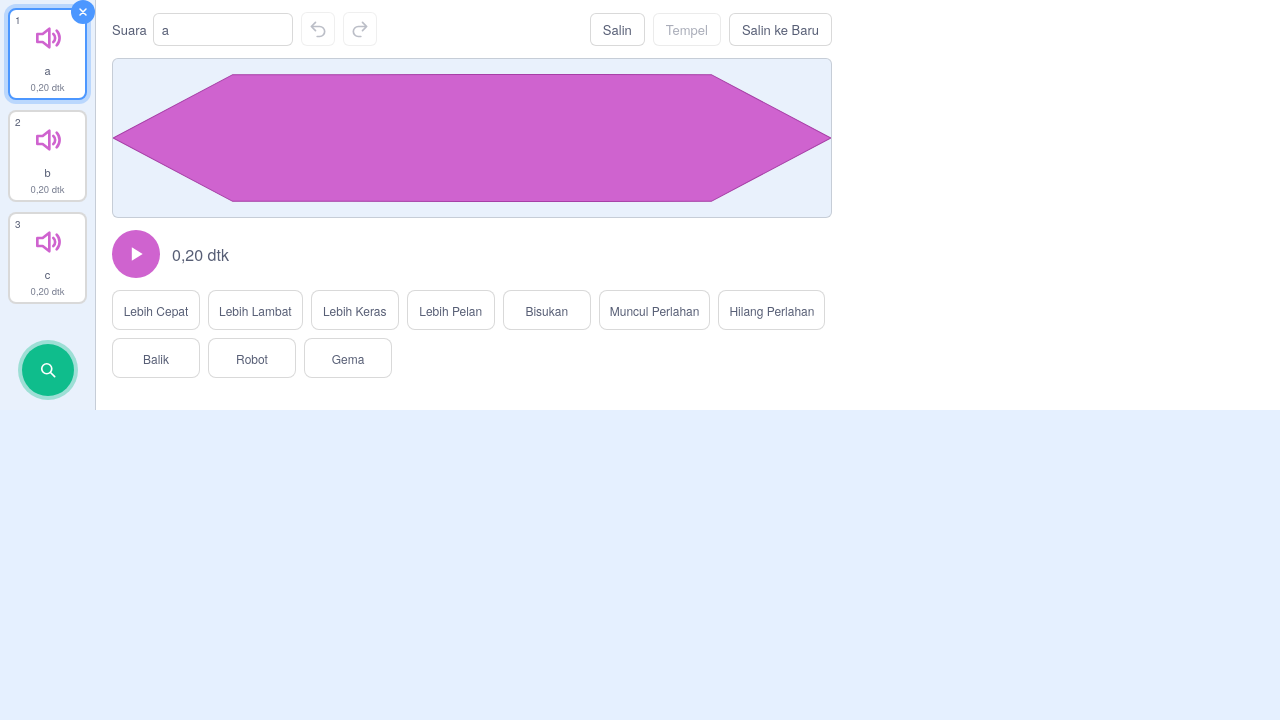
Test: SoundTab › daftar suara, durasi, dan aturan seleksi saat hapus
The image size is (1280, 720).
Expected: the 1st text with class "kb-assetlist__detail" reads "0,20 dtk", 31,80 -> 64,94
Click the option with class "kb-assetlist__tile" showing "3 c 0,20 dtk". click: [48, 258]
box: 8,212 -> 87,304
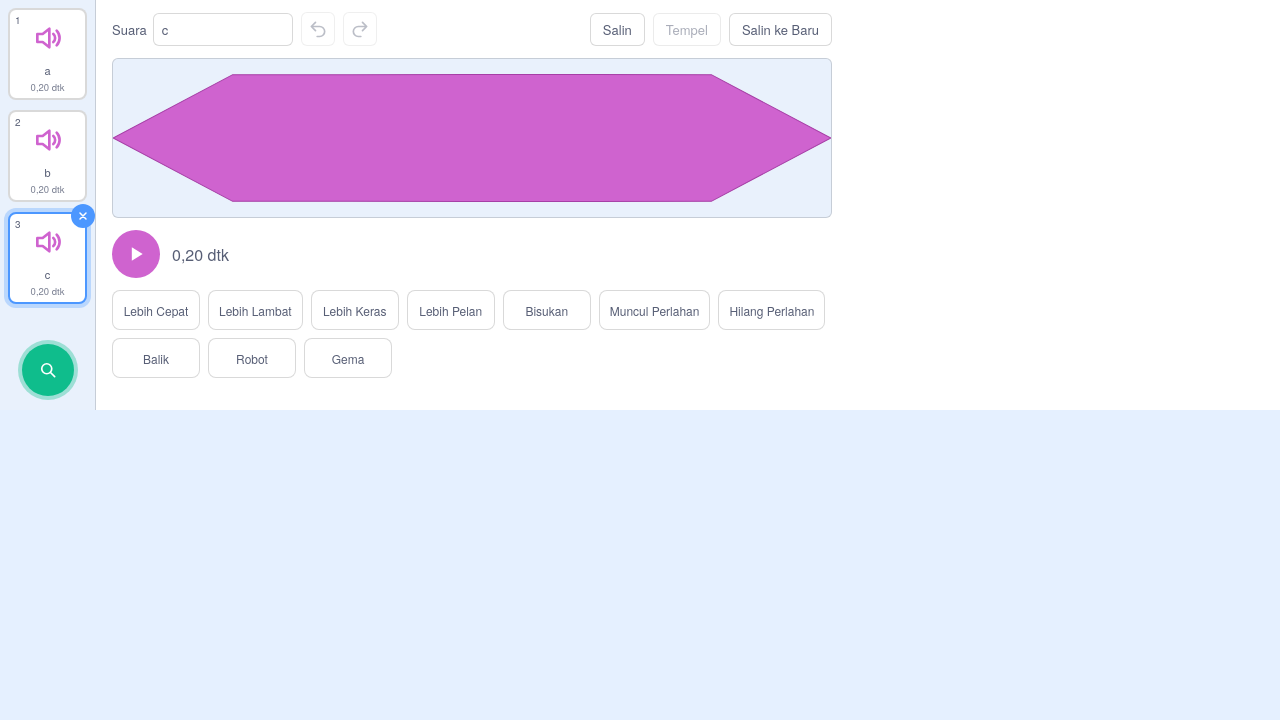
Expected: the field labelled "Suara" holds "c", 153,12 -> 293,46
Click the button with class "kb-assetlist__delete". click: [83, 216]
box: 71,204 -> 95,228
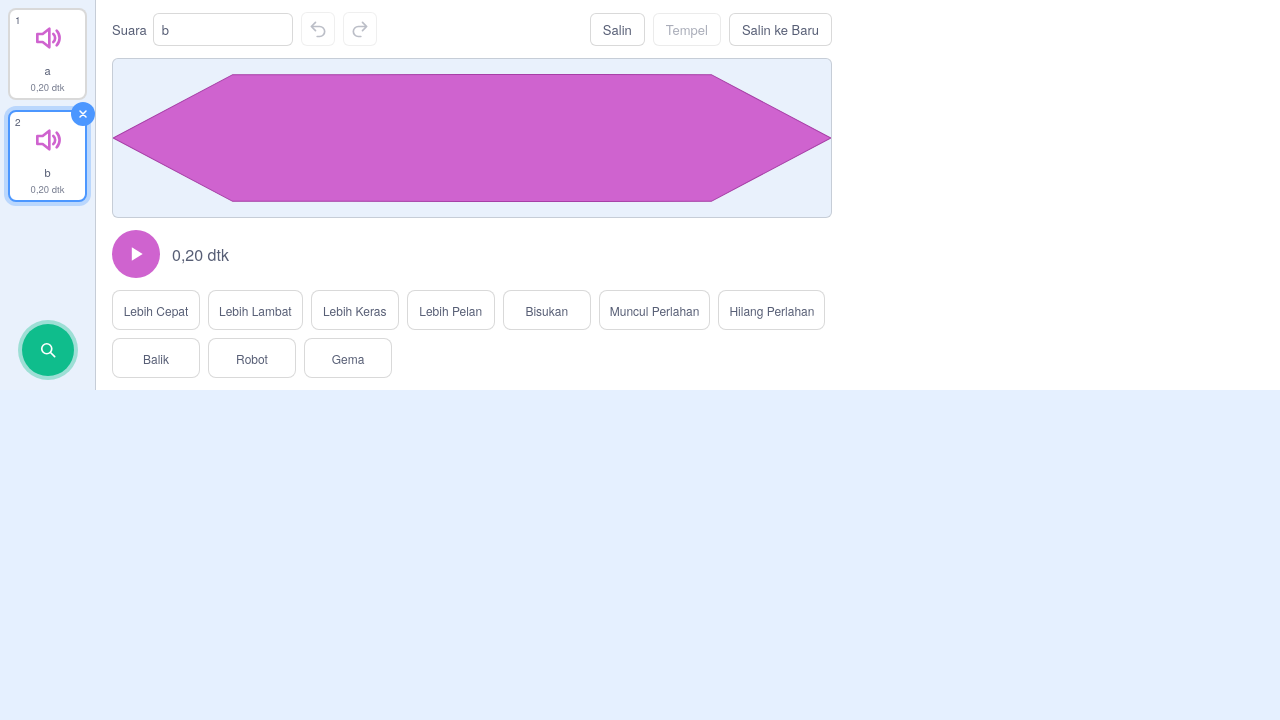
Result: the option with class "kb-assetlist__tile" is selected at 8,110 -> 87,202
